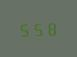eight: (45, 19, 57, 36)
five: (18, 20, 30, 37), (32, 20, 44, 36)
